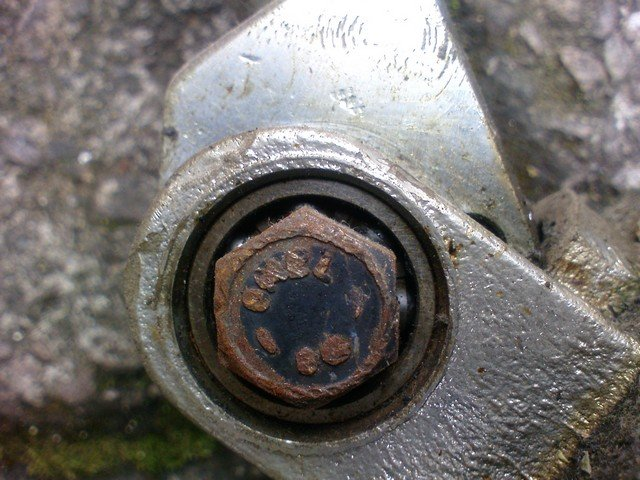bolt_a: (211, 203, 406, 412)
